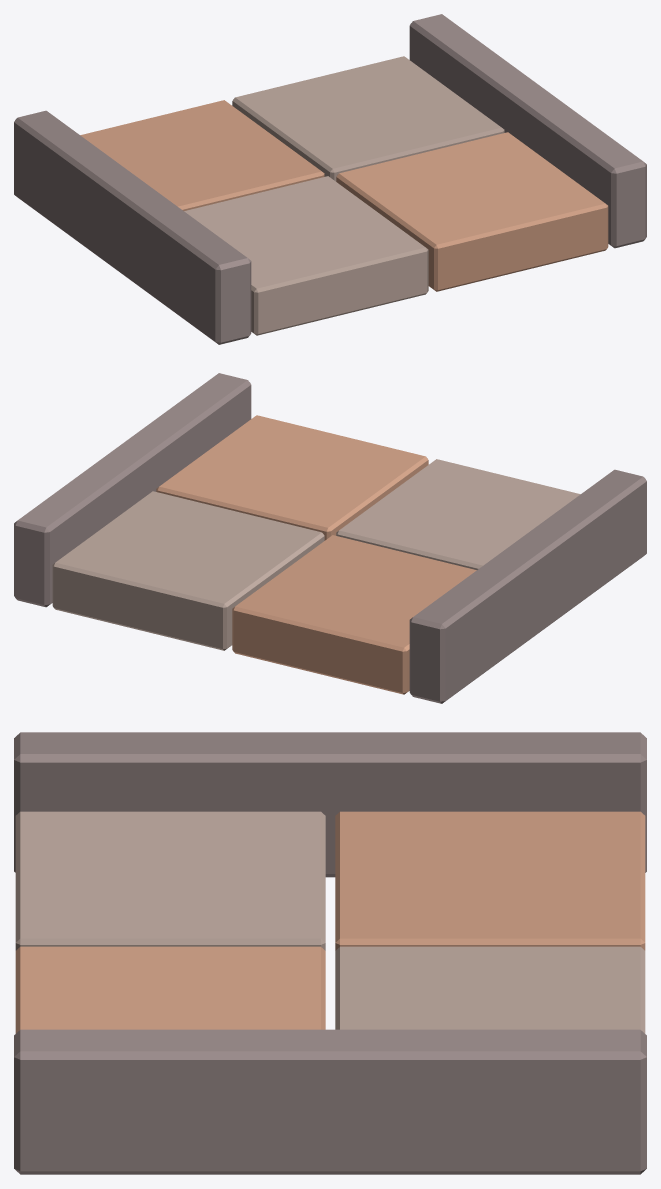
Rendered from Path_Segment.fbx.
The picture shows the model from 3 angles, top to bottom: view 1: azimuth 30°, elevation 25°; view 2: azimuth 150°, elevation 25°; view 3: azimuth 270°, elevation 25°; orthographic projection. The views are drawn at different scales.
Visible parts, largest first — view 1: Path_Segment; view 2: Path_Segment; view 3: Path_Segment.
Part boxes in pixels (left/top/right/bottom): Path_Segment: left=14, top=14, right=646, bottom=344; Path_Segment: left=14, top=373, right=646, bottom=703; Path_Segment: left=14, top=732, right=646, bottom=1174.
Size of the model in its own units: 4.8 by 0.85 by 3.96.
